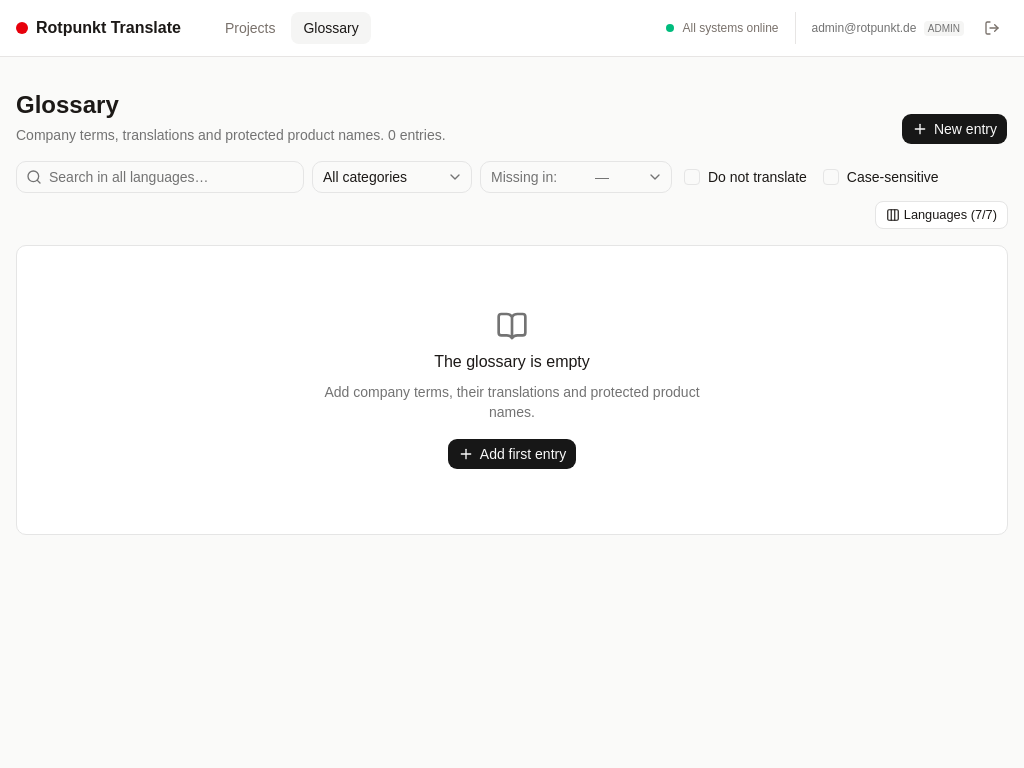
Test: Entry panel: creating › is reachable from the empty state
Click the button "Add first entry" at (512, 454), box [447,438,577,470]
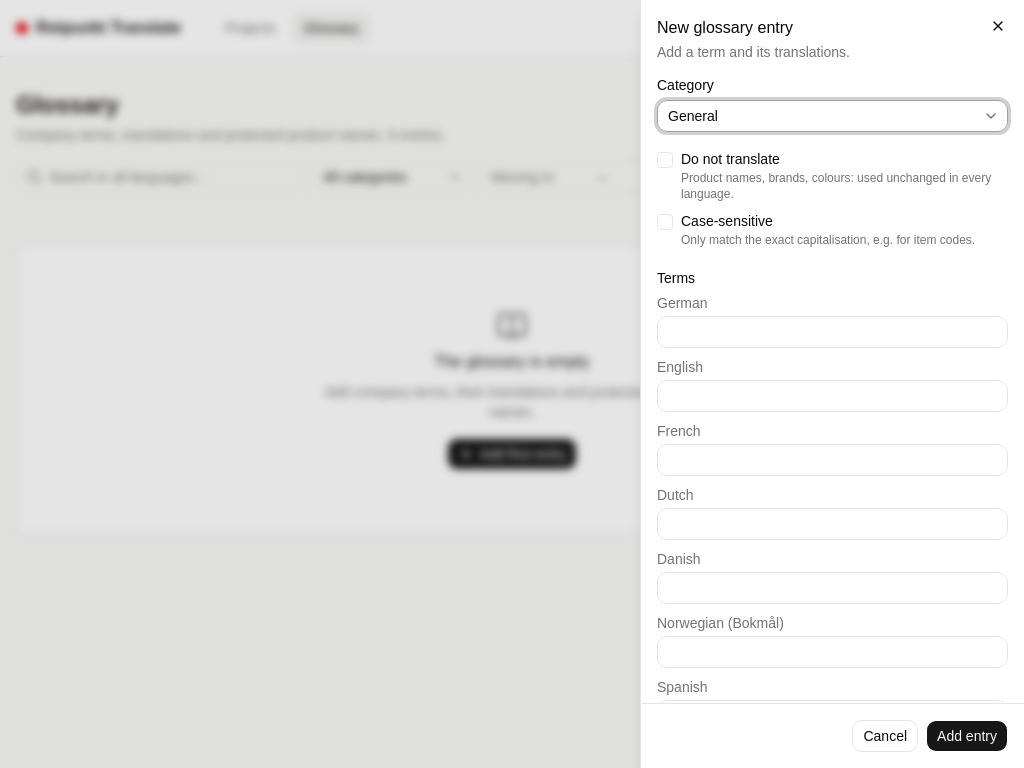
Result: the heading "New glossary entry" is shown at [657,19,793,36]
